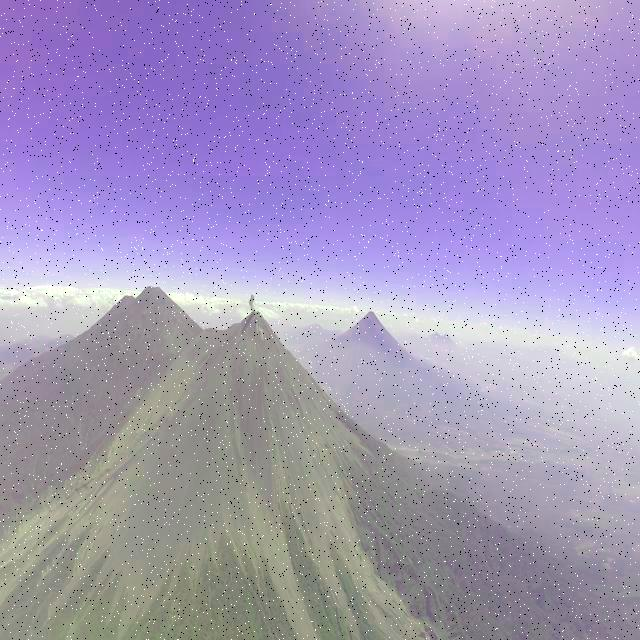Plume: (247, 292, 257, 312)
Summit: (224, 309, 279, 341)
